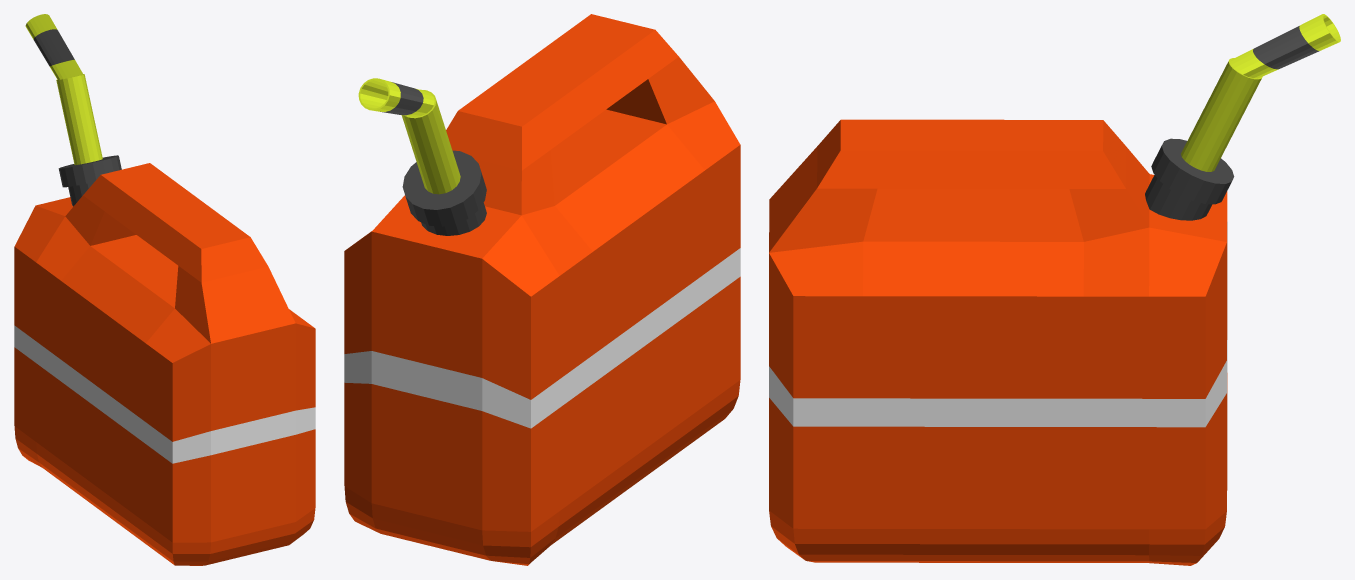
File: GasCanScaled.glb
3 renders of one model, left to right at view 1: azimuth 30°, elevation 25°; view 2: azimuth 150°, elevation 25°; view 3: azimuth 270°, elevation 25°, orthographic. The views are drawn at different scales.
Visible parts, largest first — view 1: Box002, Cylinder004, Cylinder005; view 2: Box002, Cylinder004, Cylinder005, Cylinder006; view 3: Box002, Cylinder004, Cylinder005, Cylinder006.
Part boxes in pixels (<box>): Box002: <box>14,163,315,565</box>; Cylinder004: <box>25,14,102,164</box>; Cylinder005: <box>58,155,121,187</box>; Box002: <box>344,14,740,565</box>; Cylinder004: <box>358,78,460,194</box>; Cylinder005: <box>402,150,486,226</box>; Cylinder006: <box>421,203,486,235</box>; Box002: <box>769,119,1227,565</box>; Cylinder004: <box>1181,14,1340,171</box>; Cylinder005: <box>1151,138,1234,204</box>; Cylinder006: <box>1145,175,1212,220</box>.
Bounding box in the file's own units: 2.31 × 6.07 × 6.15.
